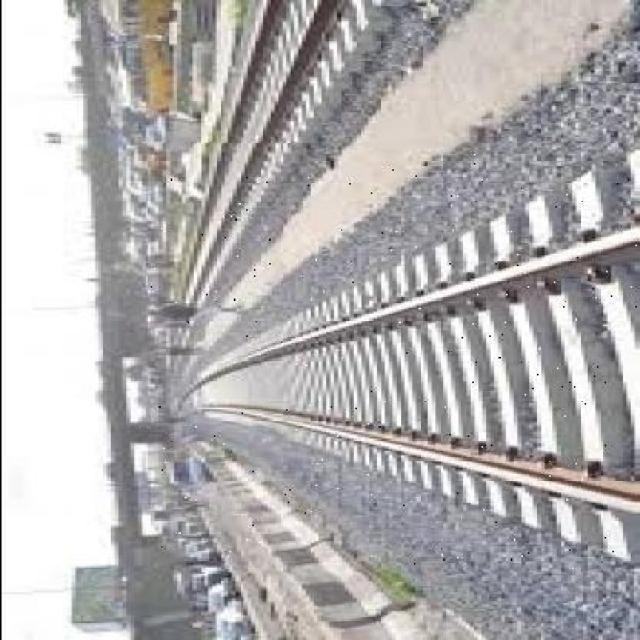rail: (147, 144, 637, 572), (173, 0, 409, 324)
